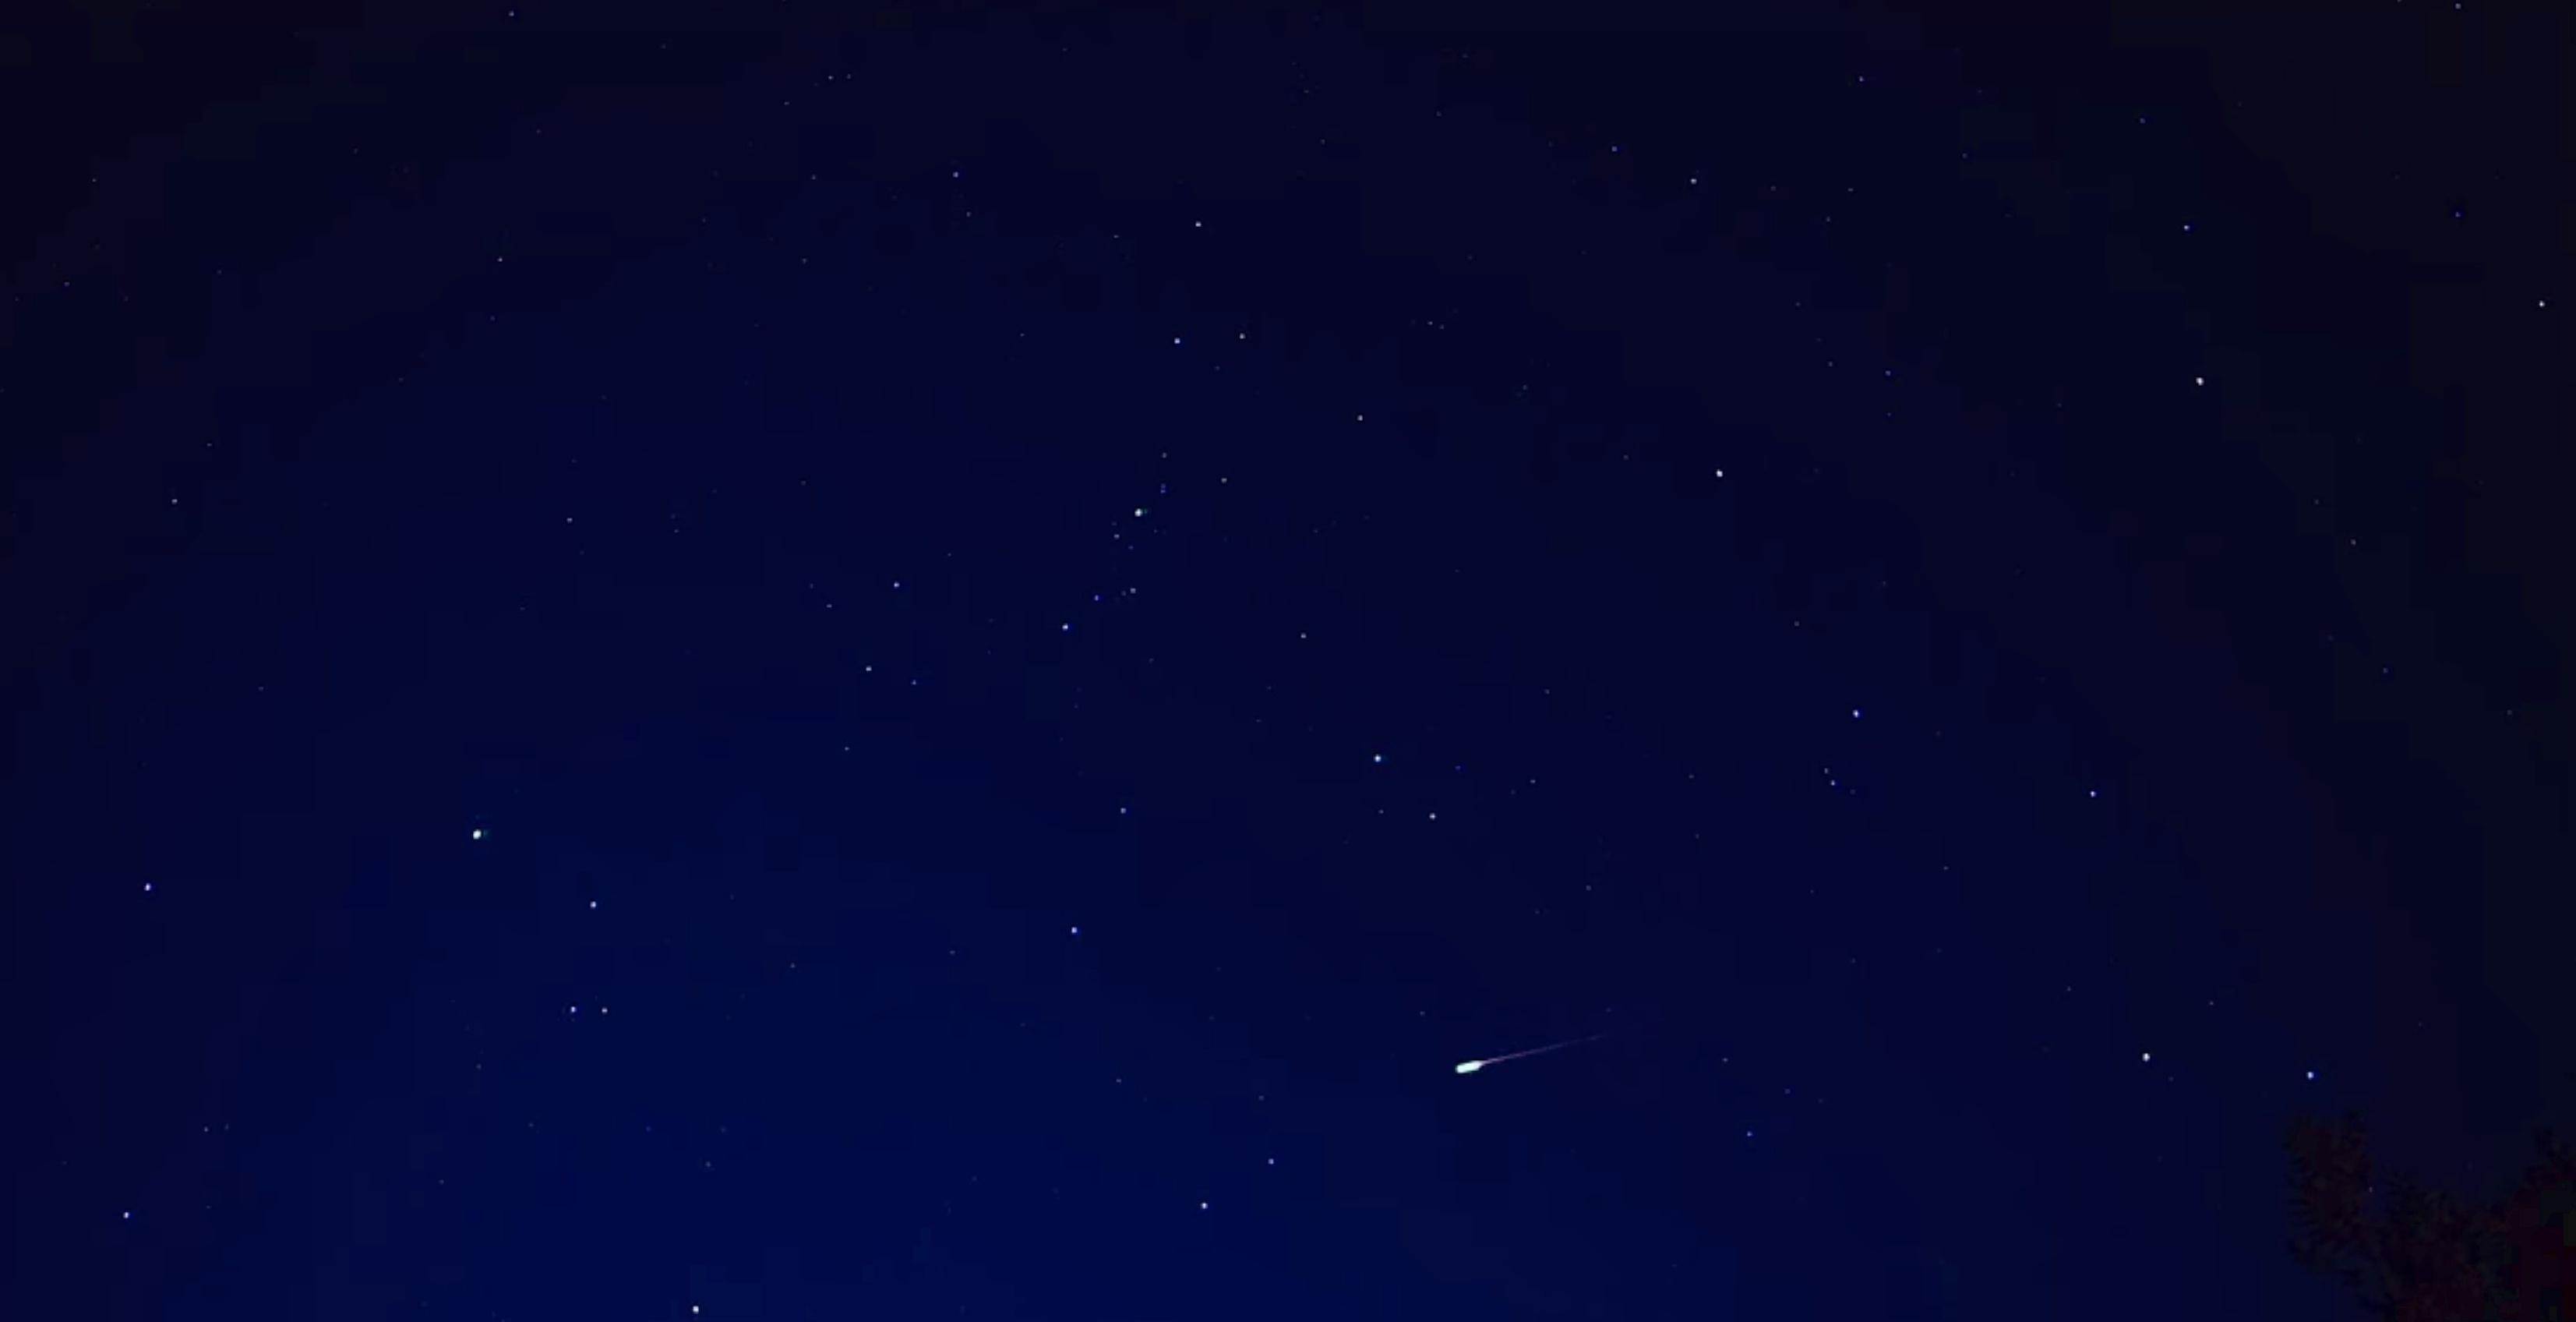meteorite: (1402, 1010, 1671, 1089)
